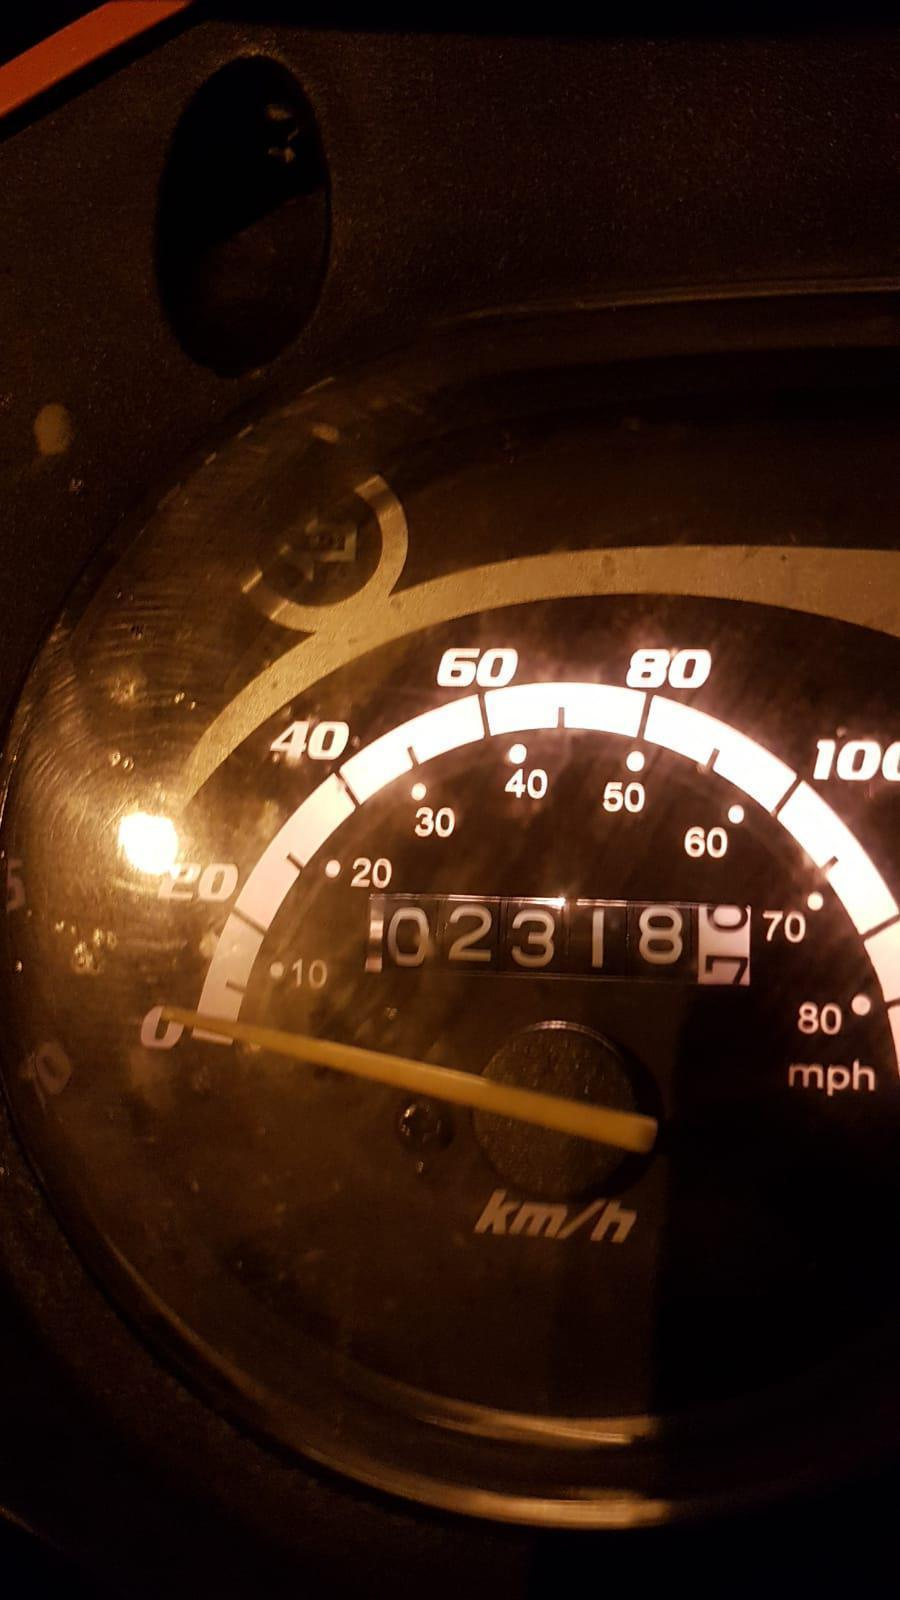0: (386, 903, 434, 967)
1: (585, 905, 613, 975)
2: (445, 901, 493, 967)
3: (510, 905, 560, 970)
7: (700, 941, 755, 991)
8: (634, 901, 685, 969)
odometer: (356, 889, 767, 997)
